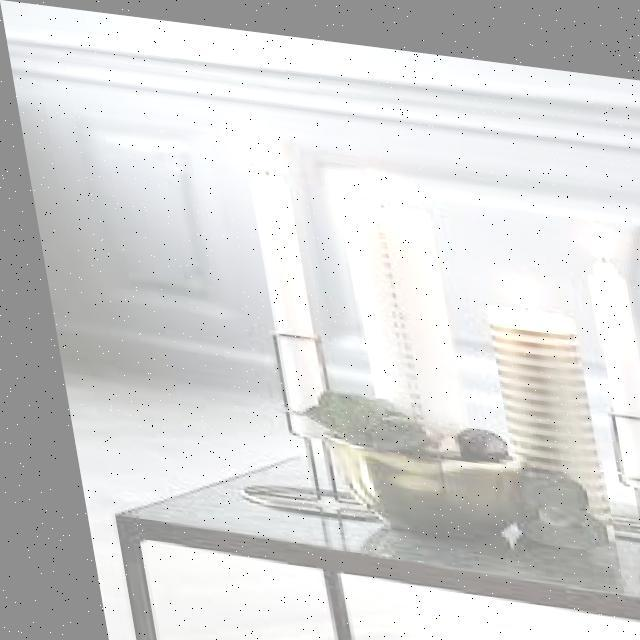Fire: (566, 203, 631, 251), (230, 115, 280, 177), (338, 151, 392, 193), (501, 260, 534, 300)
